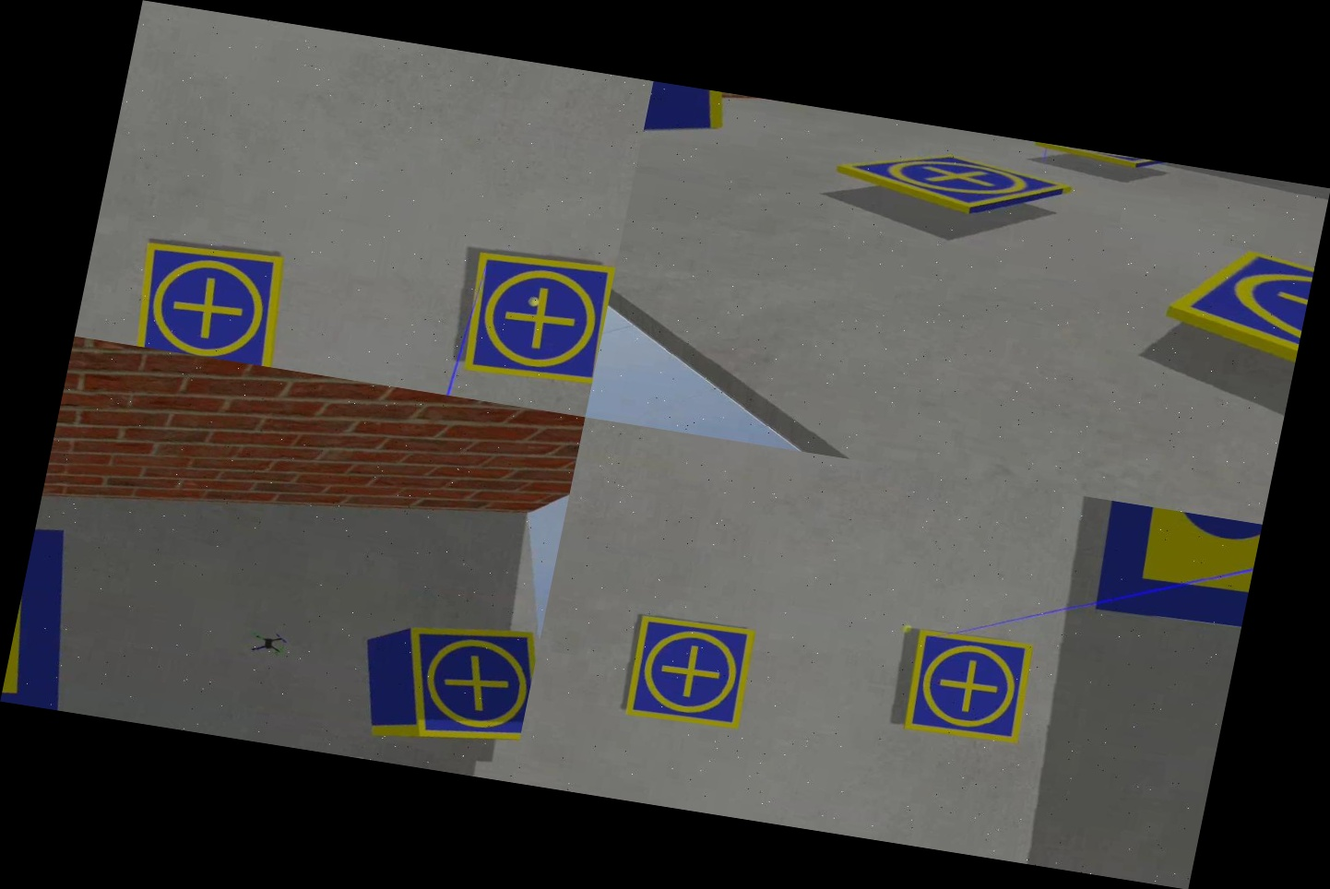large_base: (1087, 501, 1262, 633)
small_base: (1145, 228, 1317, 425), (453, 244, 616, 393), (832, 131, 1074, 231), (125, 232, 295, 368), (383, 612, 541, 757), (621, 611, 757, 735), (899, 629, 1039, 748), (1039, 143, 1179, 181)
